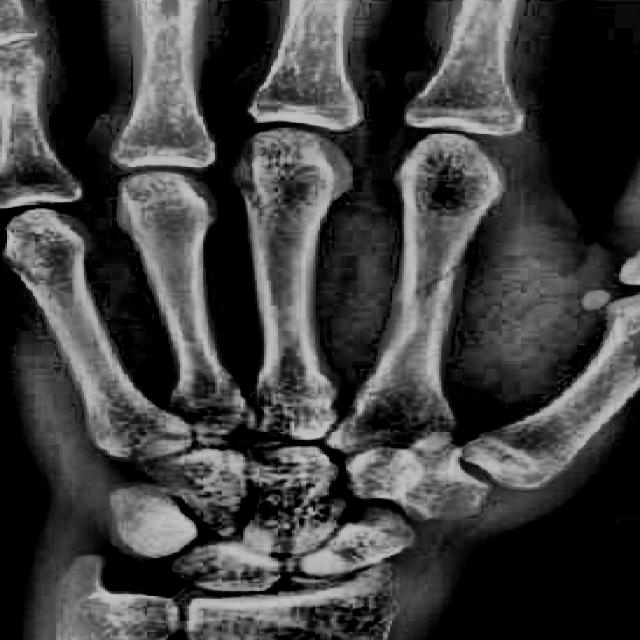fracture: (388, 262, 465, 312)
